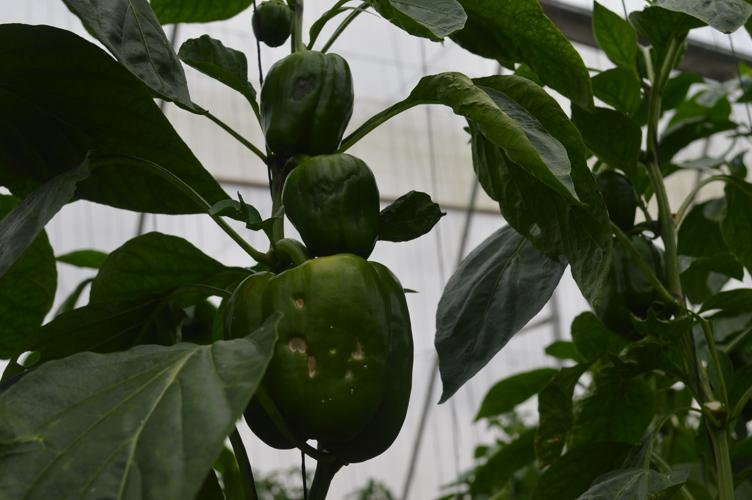BellPepper: (201, 251, 423, 476), (259, 47, 363, 167), (279, 149, 387, 263)
